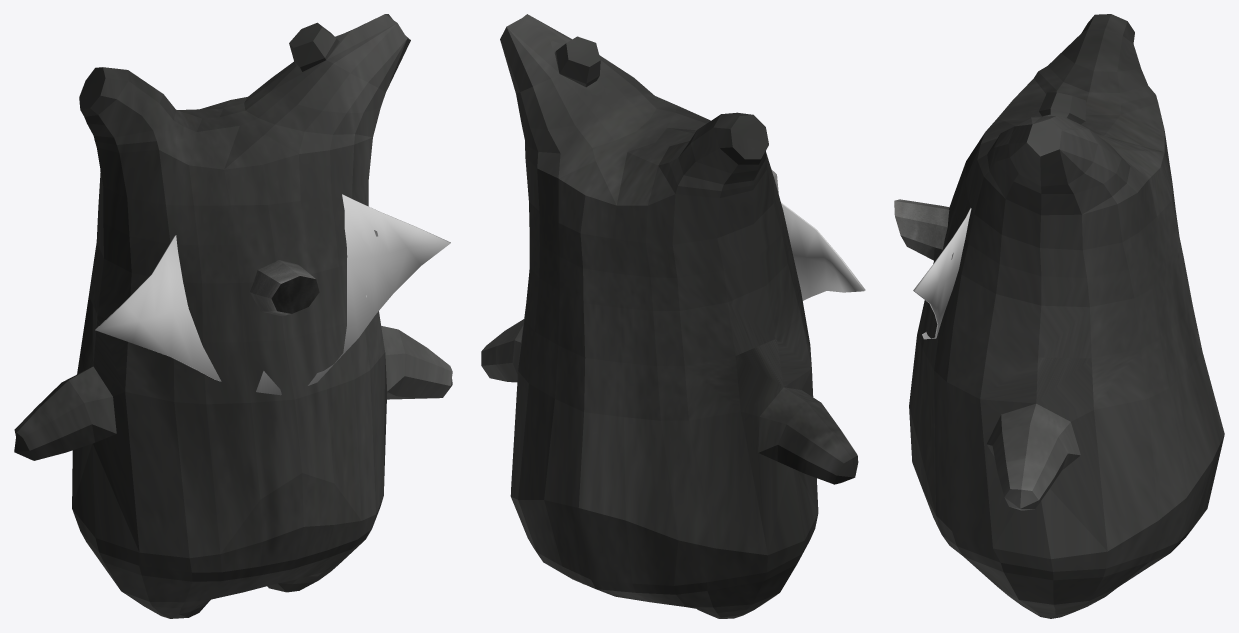
File: frame_0099.obj
The picture shows the model from 3 angles, left to right: view 1: azimuth 30°, elevation 25°; view 2: azimuth 150°, elevation 25°; view 3: azimuth 270°, elevation 25°; orthographic projection. The views are drawn at different scales.
Parts seen in each view (by area): view 1: korok, leaf, nose; view 2: korok, leaf; view 3: korok, nose, leaf.
Part boxes in pixels (x1=…): korok: x1=14, y1=14, x2=452, y2=618; leaf: x1=95, y1=194, x2=450, y2=395; nose: x1=250, y1=260, x2=319, y2=316; korok: x1=481, y1=14, x2=858, y2=618; leaf: x1=781, y1=202, x2=865, y2=300; korok: x1=909, y1=14, x2=1224, y2=618; nose: x1=894, y1=199, x2=949, y2=260; leaf: x1=913, y1=208, x2=971, y2=339.
Size of the model in its own units: 1.69 by 2.2 by 1.22.
